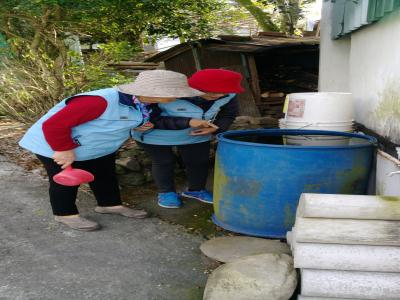bucket: (206, 126, 379, 241), (280, 91, 359, 132)
